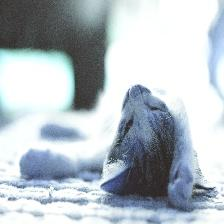kedo: (22, 83, 211, 205)
